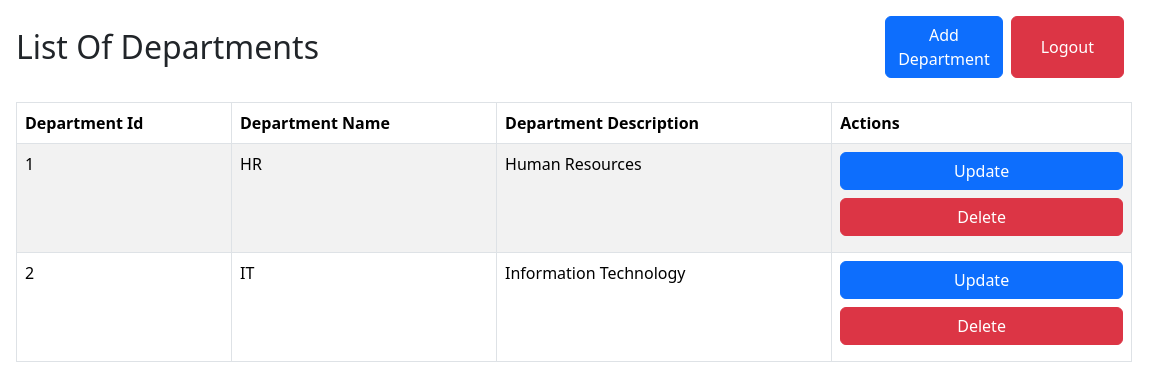
Scenario: ListDepartmentComponent › clicking the "Delete" button deletes the department and updates the list
Expected: the text "HR" is shown, [232, 144, 496, 252]
Expected: the text "IT" is shown, [232, 252, 496, 362]
Note: Click the first Delete button (corresponding to the first department)
What coordinates should you click on to do the following:
click the button "Delete" below "Human Resources"
I would click on:
 (982, 217)
Its box is [840, 198, 1123, 236].
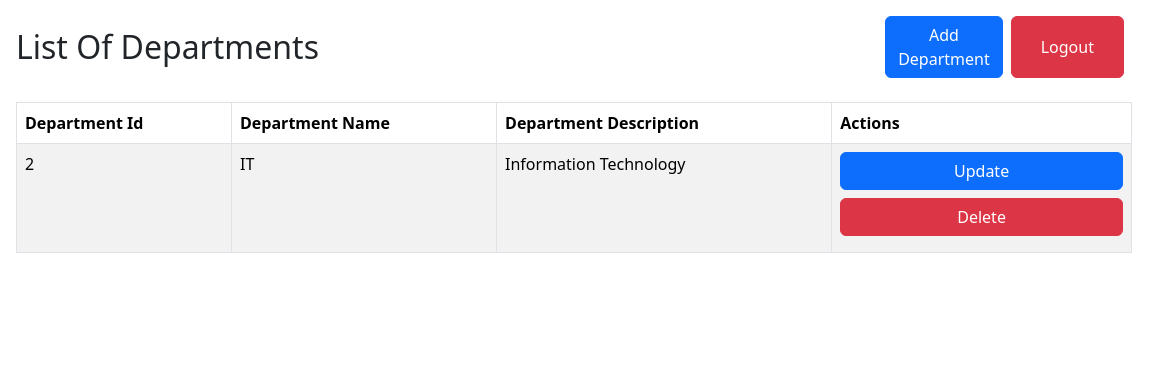
Expected: the text "IT" is shown, [232, 144, 496, 252]
Now the text "HR" is gone
